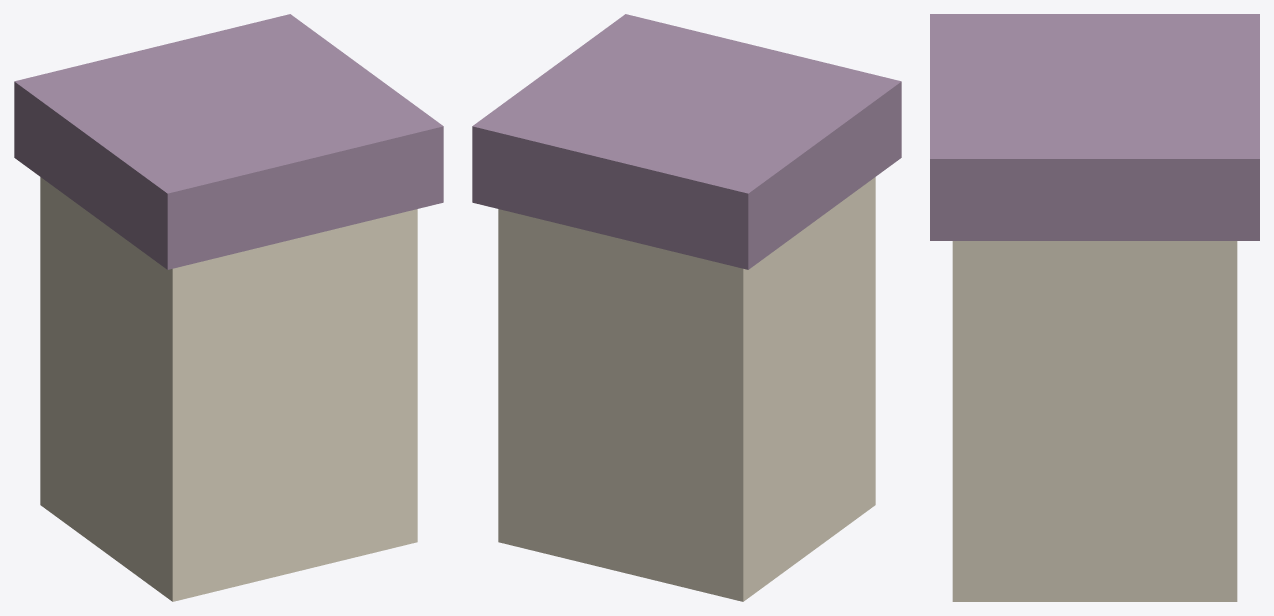
Rendered from house_b_lo2.glb.
3 views of the same model, side by side, from view 1: azimuth 30°, elevation 25°; view 2: azimuth 150°, elevation 25°; view 3: azimuth 270°, elevation 25° (orthographic). The views are drawn at different scales.
Parts seen in each view (by area): view 1: house_b_lo2; view 2: house_b_lo2; view 3: house_b_lo2.
Part boxes in pixels (bbox=[...]): house_b_lo2: bbox=[14, 14, 443, 601]; house_b_lo2: bbox=[472, 14, 901, 601]; house_b_lo2: bbox=[930, 14, 1259, 601].
Bounding box in the file's own units: 2.65 × 3.85 × 2.55.
